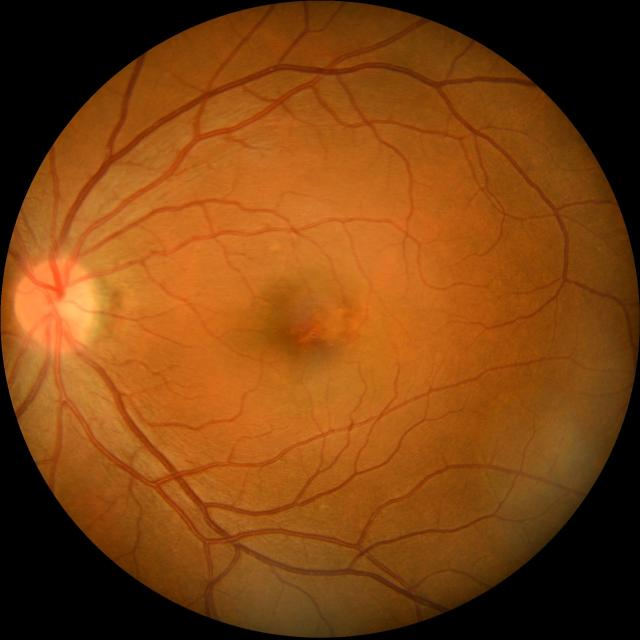OC: (49, 288, 82, 322)
OD: (17, 260, 92, 350)
